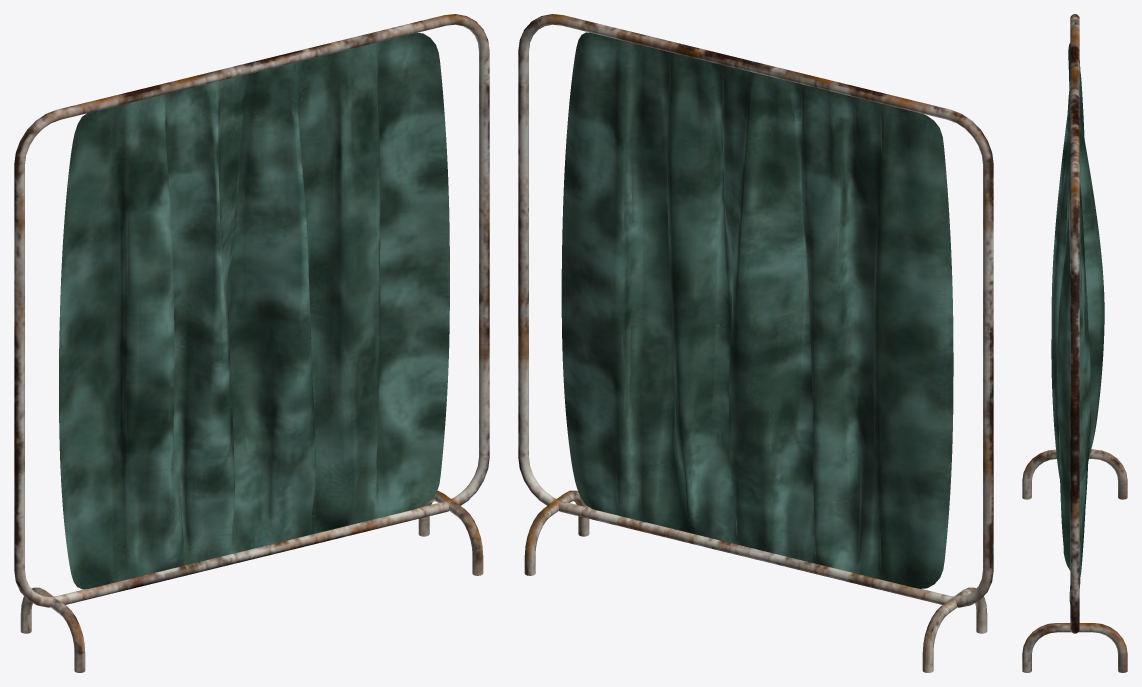
The model's file is Screen_Divider_0.fbx.
3 views of the same model, side by side, from view 1: azimuth 30°, elevation 25°; view 2: azimuth 150°, elevation 25°; view 3: azimuth 270°, elevation 25° (orthographic). The views are drawn at different scales.
Parts seen in each view (by area): view 1: Screen_Divider_0; view 2: Screen_Divider_0; view 3: Screen_Divider_0.
Part boxes in pixels (x1=…): Screen_Divider_0: x1=14, y1=14, x2=489, y2=672; Screen_Divider_0: x1=518, y1=14, x2=993, y2=672; Screen_Divider_0: x1=1022, y1=14, x2=1127, y2=672.
Size of the model in its own units: 204 by 222 by 44.
Materials: 1 (1 with a texture image).
